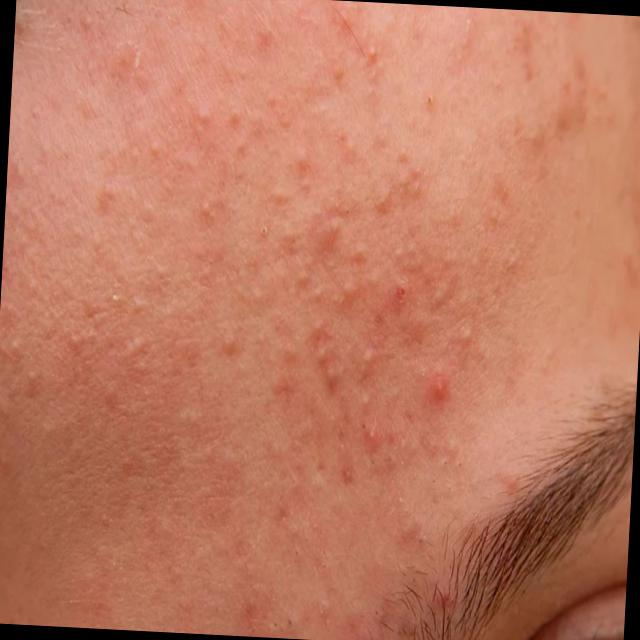fungal: (202, 100, 506, 498), (0, 24, 217, 513)
